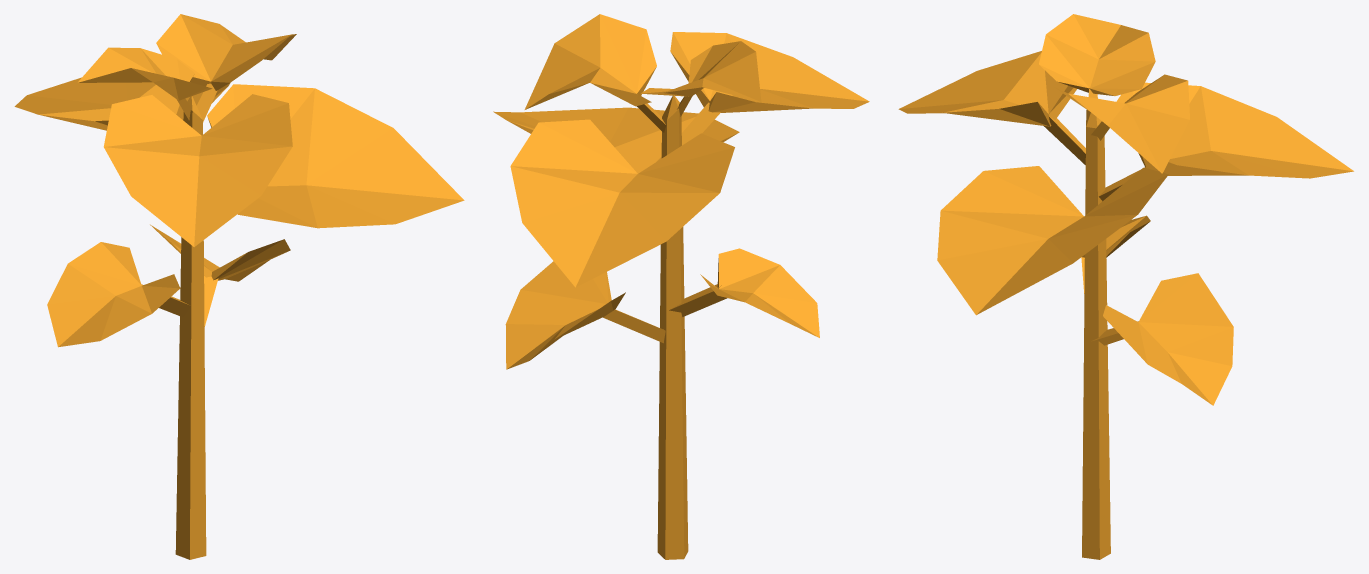
The model's file is SM_Sunflower_Plant_Seedling.fbx.
3 renders of one model, left to right at view 1: azimuth 30°, elevation 25°; view 2: azimuth 150°, elevation 25°; view 3: azimuth 270°, elevation 25°, orthographic.
Visible parts, largest first — view 1: sunflower-plant-seedling; view 2: sunflower-plant-seedling; view 3: sunflower-plant-seedling.
Boxes of the visible parts, <box> form: sunflower-plant-seedling: <box>14,14,464,559</box>; sunflower-plant-seedling: <box>493,14,869,559</box>; sunflower-plant-seedling: <box>898,14,1353,559</box>.
Size of the model in its own units: 0.3783 by 0.5231 by 0.4281.
